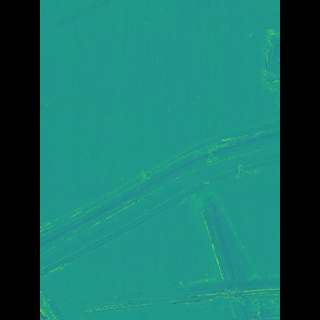Loch: (70, 117, 250, 276), (182, 189, 250, 319), (101, 274, 250, 317), (233, 20, 250, 107)
